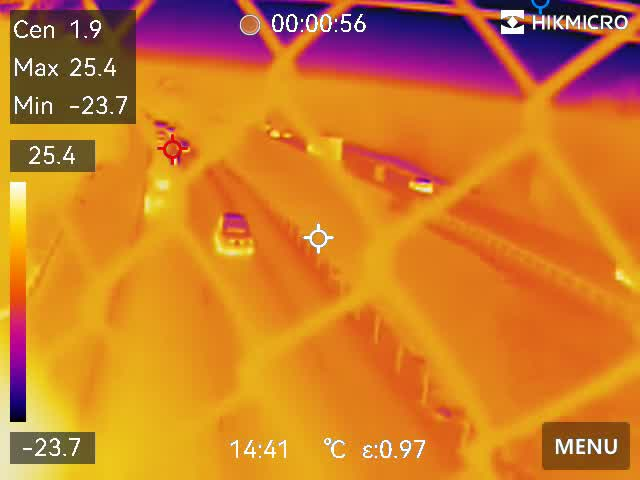vehicle: (214, 207, 264, 257), (406, 177, 434, 194)
